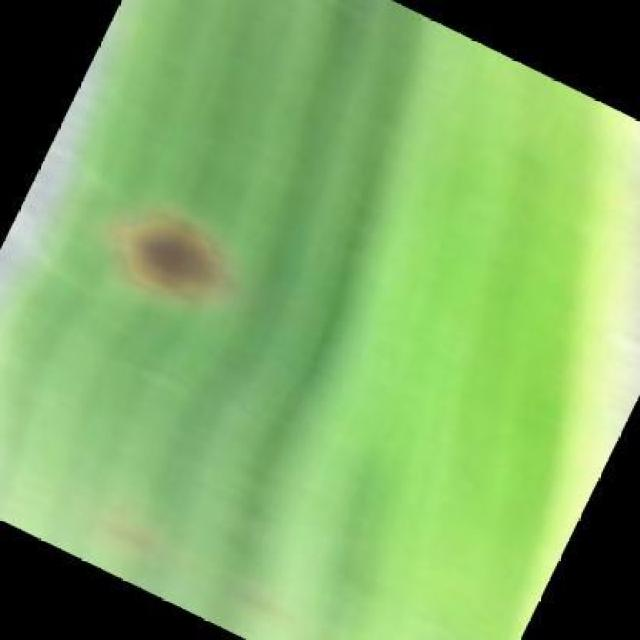Leaf_Blast: (81, 165, 273, 347), (85, 489, 183, 571)
